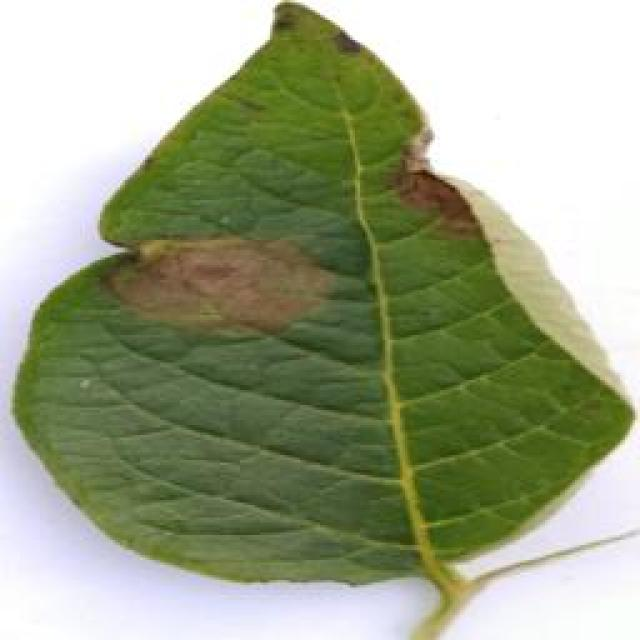Potato_Late_Blight: (8, 6, 626, 626)
